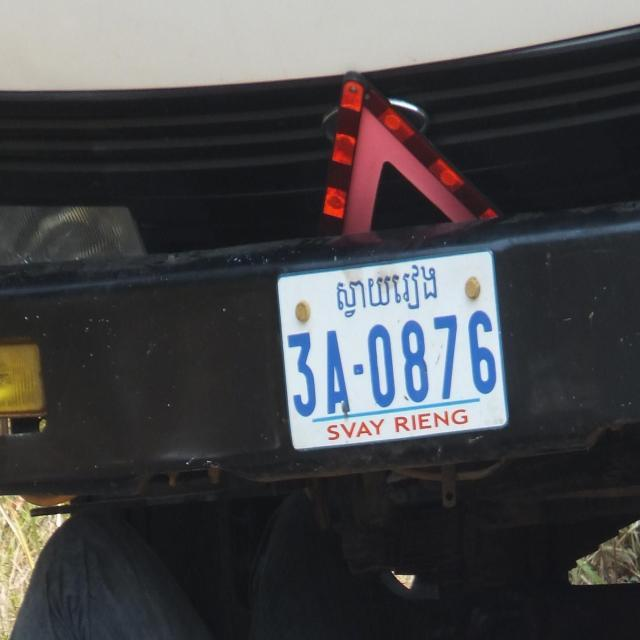Svay_Rieng: (333, 262, 440, 319)
